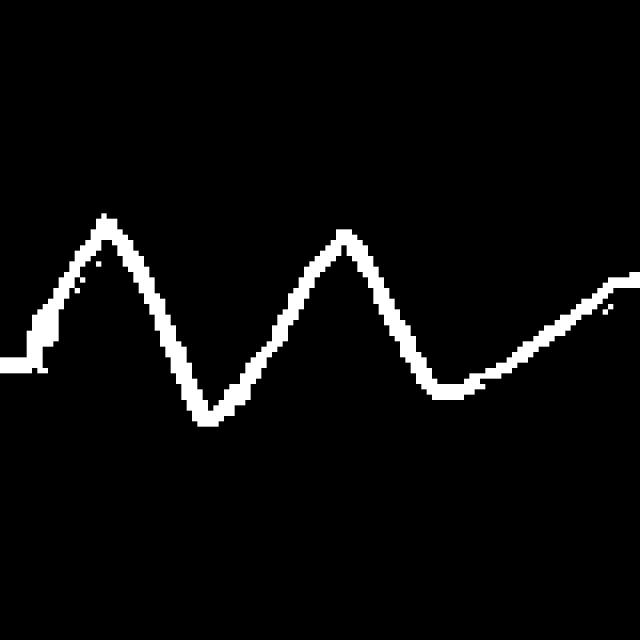resistor: (22, 205, 627, 434)
